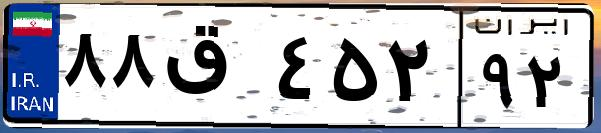2: (385, 28, 445, 110), (525, 38, 570, 115)
4: (270, 28, 330, 110)
5: (330, 28, 385, 110)
8: (57, 26, 110, 100), (110, 28, 158, 98)
9: (475, 38, 525, 113)
ق: (158, 20, 270, 120)
